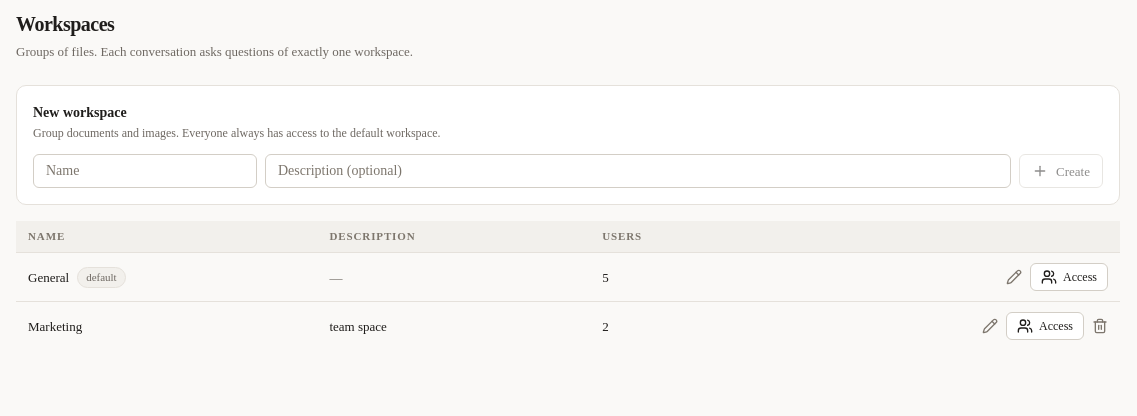
WorkspacesManager › reopens a row with the typed draft intact when the save is rejected
Check: the text "Marketing" is shown, box x1=28 y1=318 x2=82 y2=334
Click the button named "Edit Marketing". click: (990, 326)
box: x1=982 y1=318 x2=998 y2=334
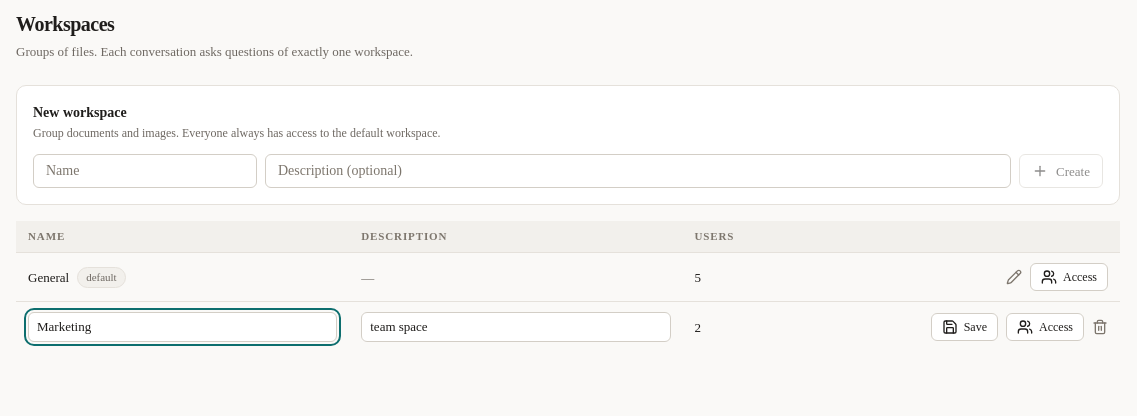
Replace the text in the field named "Name of Marketing" with "Growth". click: (183, 327)
box: x1=28 y1=312 x2=337 y2=342
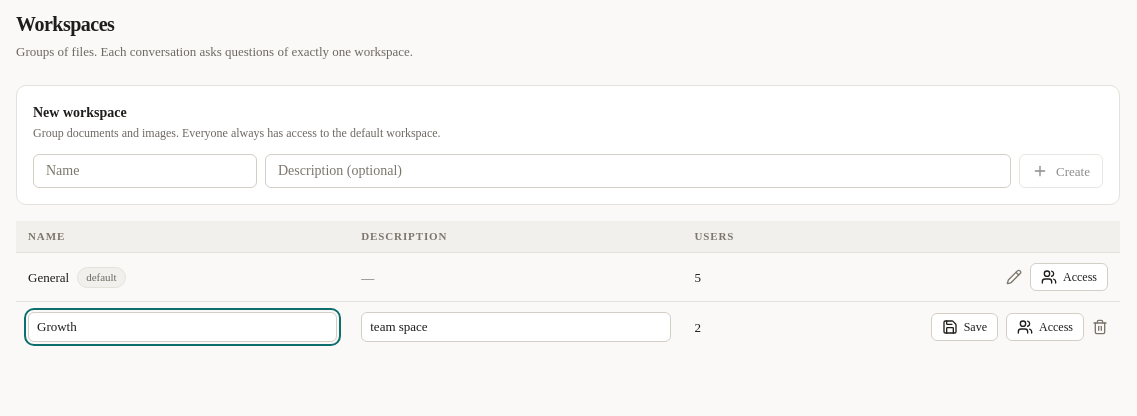
Click the button with aria-label "Save Growth". click: (964, 327)
box: x1=931 y1=313 x2=998 y2=341
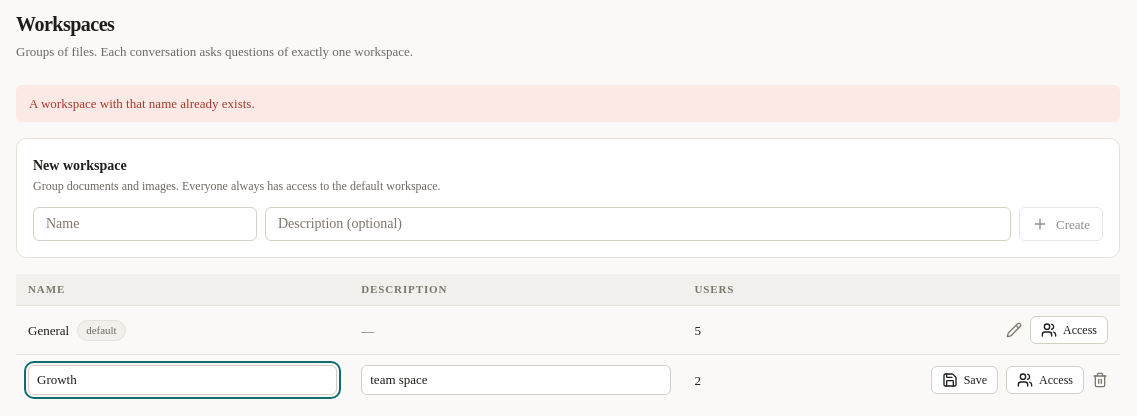
Check: the text showing "Marketing" is not shown
Check: the field showing "Growth" is shown, box x1=28 y1=365 x2=337 y2=395
Check: the message reads "A workspace with that name already exists.", box x1=29 y1=96 x2=255 y2=111
